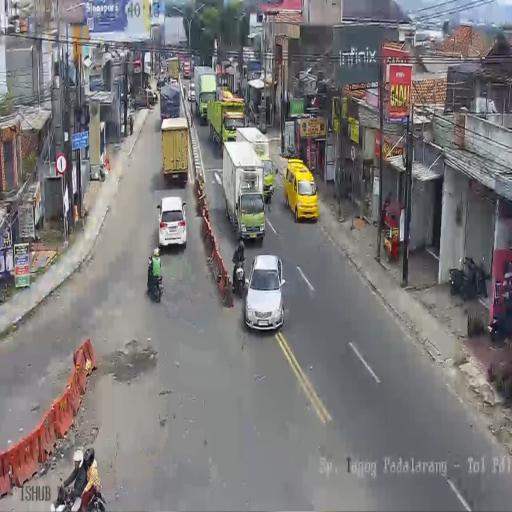3: (222, 139, 266, 241), (207, 90, 246, 148), (160, 116, 190, 186), (166, 56, 180, 82), (144, 51, 152, 78), (183, 58, 191, 78)
car: (244, 253, 285, 330), (285, 159, 319, 223), (158, 196, 188, 250), (260, 157, 274, 202), (136, 88, 156, 109), (187, 82, 196, 104), (157, 76, 167, 89), (170, 78, 178, 86)
truck: (52, 470, 106, 510), (489, 295, 512, 342), (146, 258, 163, 302), (232, 255, 246, 298)
